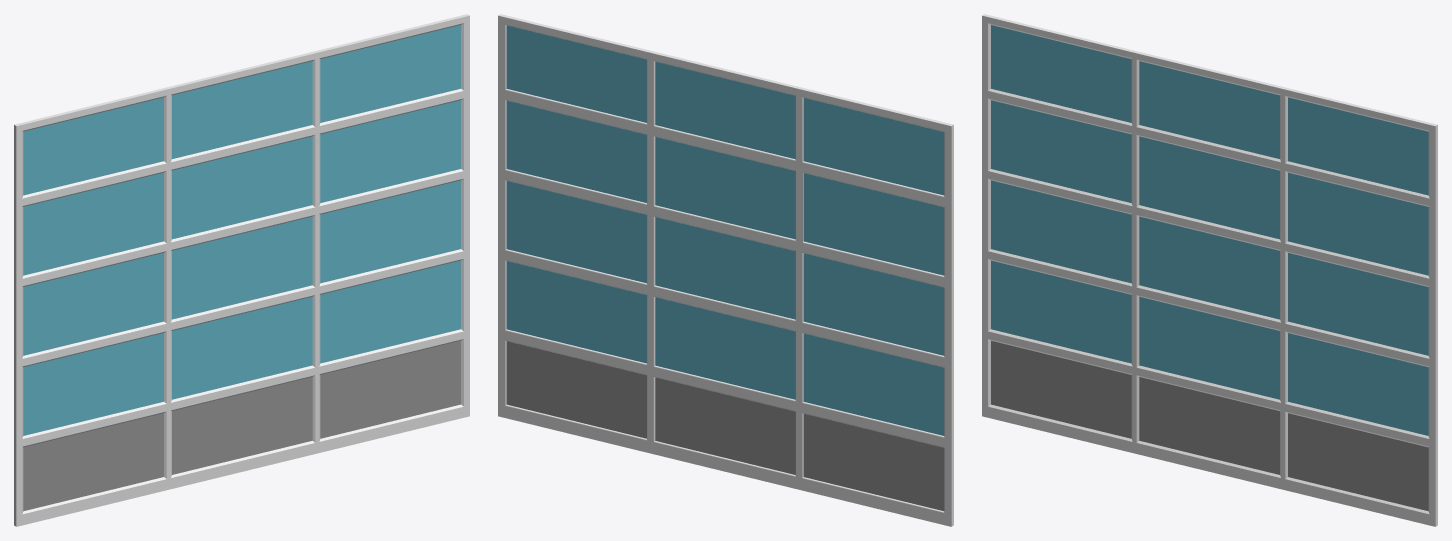
The model's file is garage_non-clear v3.fbx.
3 views of the same model, side by side, from view 1: azimuth 30°, elevation 25°; view 2: azimuth 150°, elevation 25°; view 3: azimuth 330°, elevation 25° (orthographic).
Visible parts, largest first — view 1: Body1, Body2, Body4, Body3, Body8, Body9, Body10; view 2: Body1, Body2, Body3, Body4, Body8, Body10, Body9; view 3: Body1, Body4, Body2, Body3, Body10, Body9, Body8.
Part boxes in pixels (x1,y1,x2,y2): Body1: [14, 14, 469, 526]; Body2: [23, 97, 163, 435]; Body4: [320, 25, 460, 363]; Body3: [172, 61, 312, 399]; Body8: [23, 413, 163, 511]; Body9: [172, 377, 312, 474]; Body10: [320, 341, 460, 438]; Body1: [498, 14, 953, 526]; Body2: [803, 98, 944, 435]; Body3: [655, 61, 795, 399]; Body4: [506, 25, 646, 363]; Body8: [803, 413, 944, 511]; Body10: [506, 341, 646, 438]; Body9: [655, 377, 795, 474]; Body1: [982, 14, 1437, 526]; Body4: [1288, 97, 1428, 435]; Body2: [991, 25, 1131, 363]; Body3: [1139, 61, 1279, 399]; Body10: [1288, 413, 1428, 511]; Body9: [1139, 377, 1279, 474]; Body8: [991, 341, 1131, 438].
Size of the model in its own units: 3.68 by 3.11 by 0.0317.
